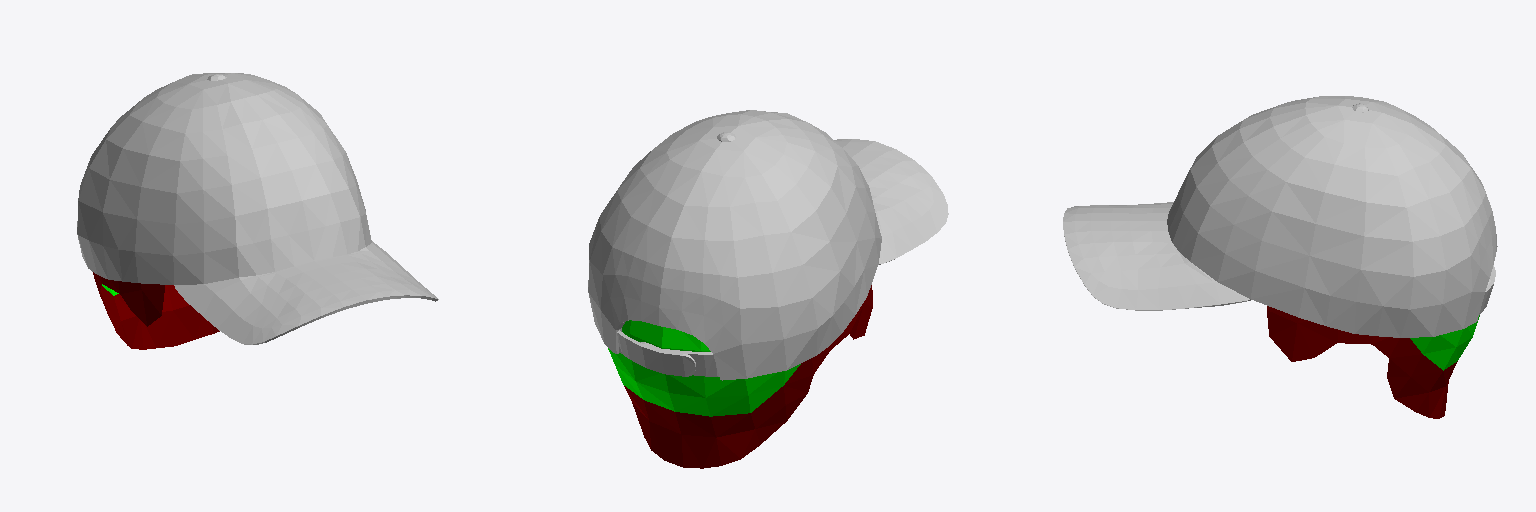
The model's file is BaseballHat_Hair_03.obj.
3 renders of one model, left to right at view 1: azimuth 30°, elevation 25°; view 2: azimuth 150°, elevation 25°; view 3: azimuth 270°, elevation 25°, orthographic.
Size of the model in its own units: 16.19 by 20.19 by 26.27.